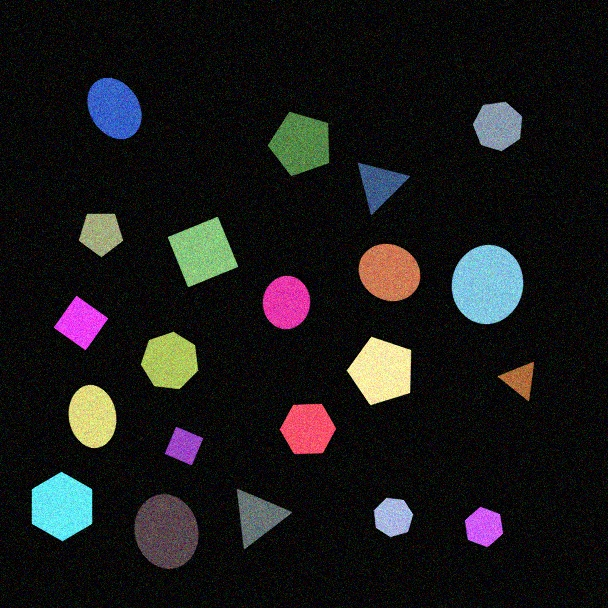Circulo: (451, 244, 524, 325), (358, 243, 421, 302), (262, 275, 311, 330)
Elipse: (134, 493, 199, 570), (86, 77, 143, 140), (68, 384, 117, 449)
Heptagono: (140, 331, 199, 390), (472, 101, 523, 152), (373, 497, 414, 538)
Hexagono: (31, 471, 93, 542), (279, 403, 337, 455), (464, 506, 504, 548)
Pentagono: (346, 336, 412, 406), (267, 111, 330, 177), (78, 213, 124, 258)
Quadrado: (167, 216, 239, 288), (53, 295, 109, 351), (164, 426, 204, 466)
Triangulo: (236, 488, 293, 550), (357, 162, 411, 216), (498, 361, 535, 402)
